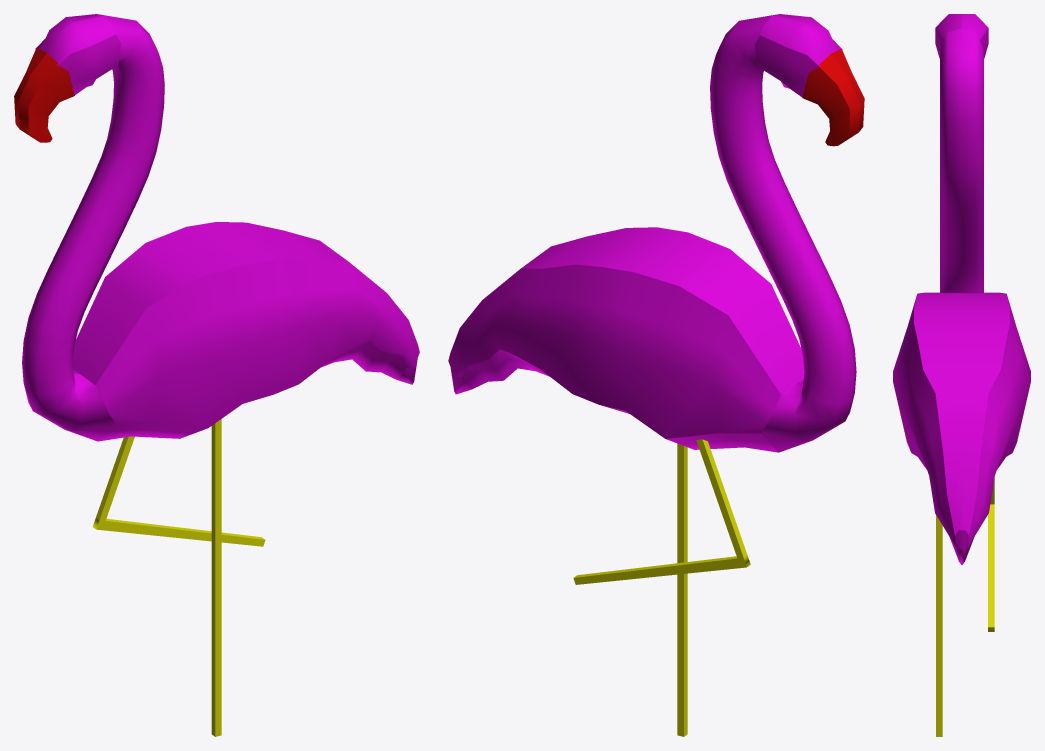
The model's file is SM_Flamingo.fbx.
The picture shows the model from 3 angles, left to right: view 1: azimuth 30°, elevation 25°; view 2: azimuth 150°, elevation 25°; view 3: azimuth 270°, elevation 25°; orthographic projection. The views are drawn at different scales.
Parts seen in each view (by area): view 1: flamingo; view 2: flamingo; view 3: flamingo.
Part boxes in pixels (x1,y1,x2,y2): flamingo: (14, 14, 419, 736); flamingo: (448, 14, 864, 736); flamingo: (893, 14, 1030, 736).
Size of the model in its own units: 308 by 545 by 103.
